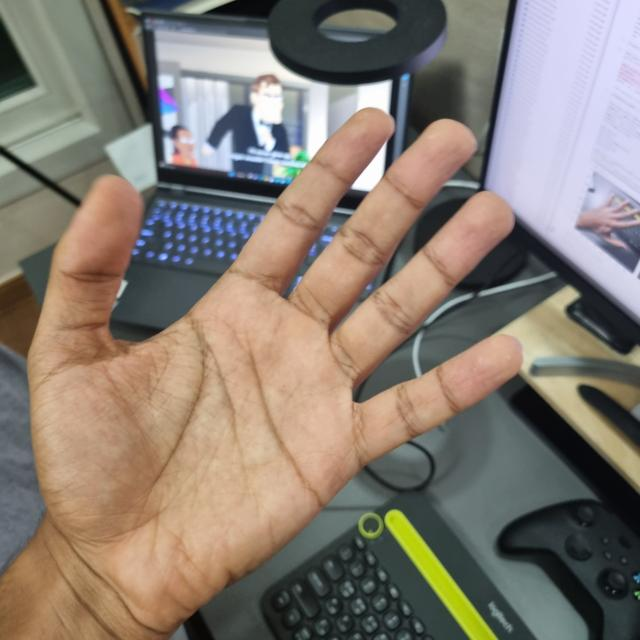Paper: (28, 111, 525, 622)
